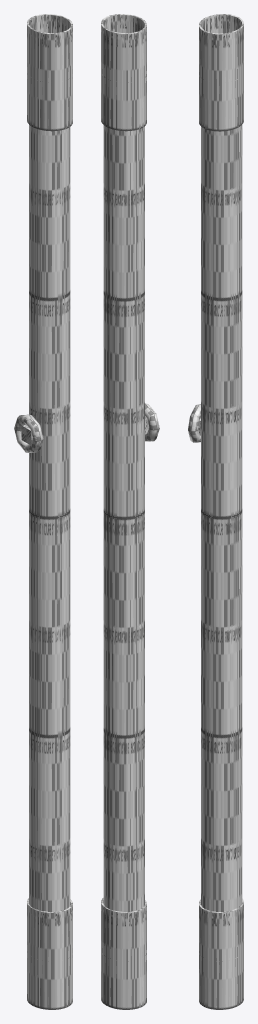
The model's file is Pipe(small and thin).fbx.
3 views of the same model, side by side, from view 1: azimuth 30°, elevation 25°; view 2: azimuth 210°, elevation 25°; view 3: azimuth 330°, elevation 25° (orthographic).
Parts seen in each view (by area): view 1: Pipe_small_and_thin_, Pipe_Ring_wall__1, Pipe_Ring_wall_, valve, PipeBlock; view 2: Pipe_small_and_thin_, Pipe_Ring_wall__1, Pipe_Ring_wall_, valve; view 3: Pipe_small_and_thin_, Pipe_Ring_wall__1, Pipe_Ring_wall_, valve.
Part boxes in pixels (x1=…): Pipe_small_and_thin_: x1=29, y1=125, x2=70, y2=911; Pipe_Ring_wall__1: x1=27, y1=14, x2=72, y2=131; Pipe_Ring_wall_: x1=27, y1=898, x2=72, y2=1009; valve: x1=14, y1=414, x2=43, y2=452; PipeBlock: x1=21, y1=424, x2=32, y2=444; Pipe_small_and_thin_: x1=103, y1=125, x2=144, y2=911; Pipe_Ring_wall__1: x1=101, y1=14, x2=146, y2=131; Pipe_Ring_wall_: x1=101, y1=897, x2=146, y2=1009; valve: x1=145, y1=403, x2=159, y2=441; Pipe_small_and_thin_: x1=201, y1=125, x2=242, y2=911; Pipe_Ring_wall__1: x1=199, y1=14, x2=243, y2=131; Pipe_Ring_wall_: x1=199, y1=898, x2=243, y2=1009; valve: x1=188, y1=404, x2=200, y2=442.
Bounding box in the file's own units: 20.61 × 409 × 18.53.
